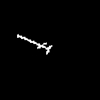double_crochet: (17, 35, 51, 53)
